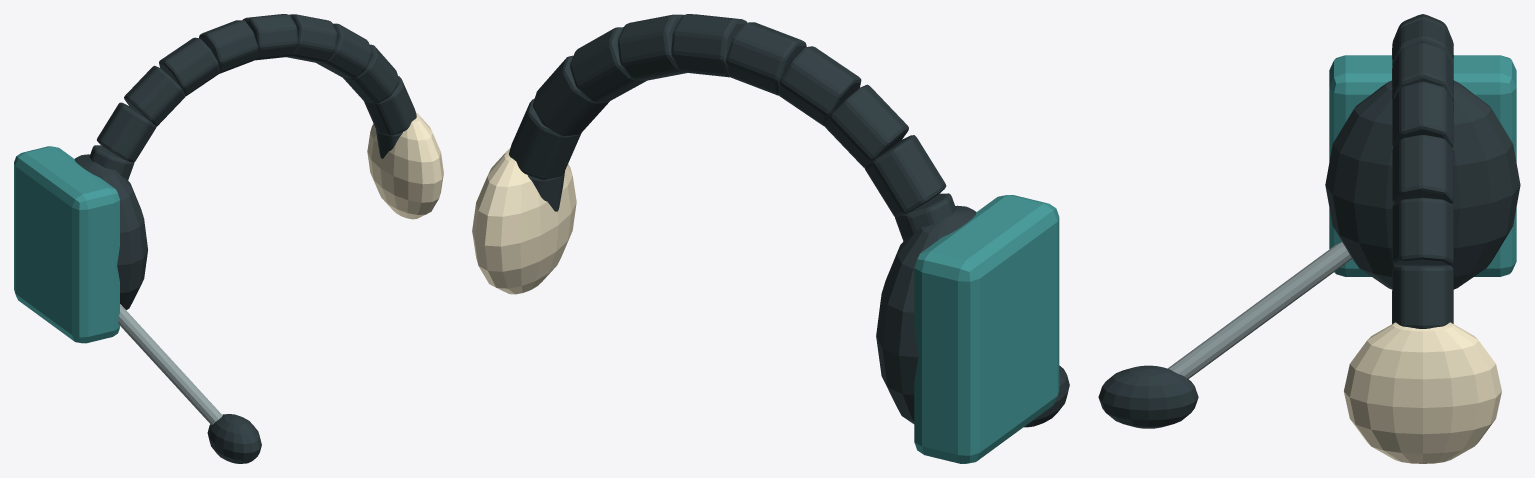
The model's file is P054_headset.glb.
The picture shows the model from 3 angles, left to right: view 1: azimuth 30°, elevation 25°; view 2: azimuth 150°, elevation 25°; view 3: azimuth 270°, elevation 25°; orthographic projection. The views are drawn at different scales.
Parts seen in each view (by area): view 1: P054_earcup_014, P054_temple_pad_015, P054_earpad_013, P054_boom_016, P054_headband_009, P054_headband_010, P054_headband_008, P054_mic_017, P054_headband_007, P054_headband_006, P054_headband_005, P054_headband_004 (+3 smaller); view 2: P054_earcup_014, P054_temple_pad_015, P054_earpad_013, P054_headband_009, P054_headband_010, P054_headband_008, P054_headband_007, P054_headband_006, P054_headband_005, P054_headband_004, P054_headband_003, P054_headband_002 (+3 smaller); view 3: P054_earpad_013, P054_temple_pad_015, P054_earcup_014, P054_mic_017, P054_boom_016, P054_headband_003, P054_headband_002, P054_headband_004, P054_headband_005, P054_headband_006, P054_headband_007.
Part boxes in pixels (x1,y1,x2,y2): P054_earcup_014: [14, 146, 119, 343]; P054_temple_pad_015: [367, 112, 443, 219]; P054_earpad_013: [75, 154, 147, 309]; P054_boom_016: [118, 304, 222, 424]; P054_headband_009: [124, 65, 185, 126]; P054_headband_010: [97, 102, 156, 162]; P054_headband_008: [159, 37, 219, 95]; P054_mic_017: [207, 414, 261, 463]; P054_headband_007: [199, 20, 257, 73]; P054_headband_006: [242, 14, 297, 60]; P054_headband_005: [286, 14, 337, 62]; P054_headband_004: [316, 23, 371, 78]; P054_earcup_014: [914, 195, 1059, 463]; P054_temple_pad_015: [472, 148, 576, 294]; P054_earpad_013: [876, 205, 976, 423]; P054_headband_009: [825, 84, 908, 167]; P054_headband_010: [864, 135, 946, 216]; P054_headband_008: [778, 46, 861, 126]; P054_headband_007: [726, 22, 806, 95]; P054_headband_006: [671, 14, 746, 77]; P054_headband_005: [618, 14, 686, 80]; P054_headband_004: [570, 27, 646, 102]; P054_headband_003: [533, 55, 609, 136]; P054_headband_002: [509, 98, 581, 179]; P054_earpad_013: [1325, 80, 1520, 289]; P054_temple_pad_015: [1344, 322, 1501, 463]; P054_earcup_014: [1329, 55, 1516, 276]; P054_mic_017: [1098, 365, 1198, 428]; P054_boom_016: [1168, 242, 1352, 378]; P054_headband_003: [1392, 197, 1453, 265]; P054_headband_002: [1392, 265, 1453, 328]; P054_headband_004: [1392, 135, 1453, 203]; P054_headband_005: [1392, 81, 1453, 147]; P054_headband_006: [1392, 42, 1453, 100]; P054_headband_007: [1392, 19, 1453, 66].
Size of the model in its own units: 0.231 by 0.1934 by 0.16.
